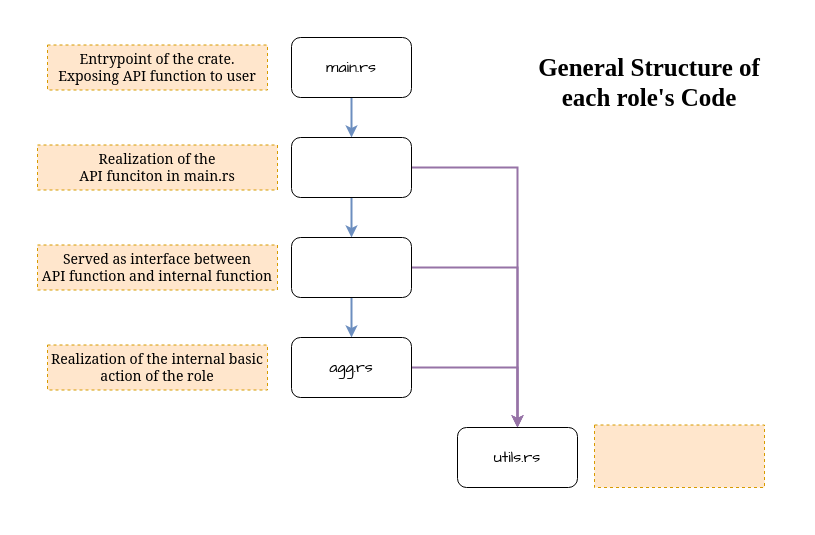
This 815x535 diagram has some shape labels left out. Here are the shapes that lost their labels. From the top down, the centre of each, then its label:
the point at 351,167: service.rs
the point at 351,267: agg_state.rs
the point at 679,456: Providing general function to entire crate.
